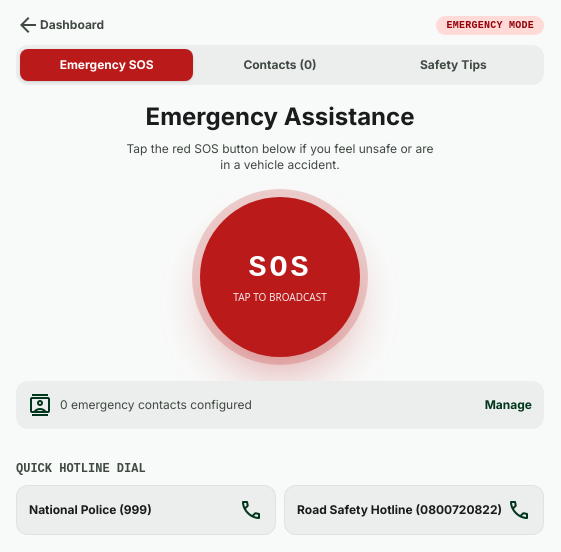
Test: DATA-002: Emergency SOS Contacts Real Data & Zero Hardcoded Fake Profiles › CRIT-01: Emergency SOS Real GPS & Active Trip Context Verification › falls back to location unavailable when GPS is denied and no cache exists without fabricating coordinates
This screenshot has width=561, height=552.
Step 1. Click the button "SOS Tap to Broadcast" → (280,277), box [200,197,360,357]
Wait 4000 ms
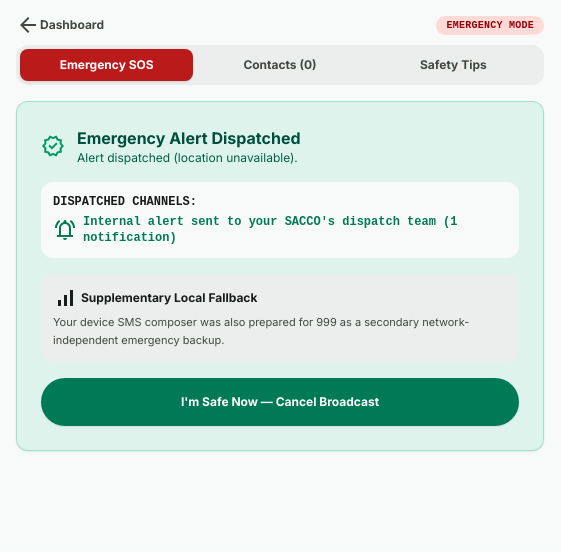
Check: the text "Alert dispatched (location unavailable)." is shown, box [77,150,300,166]
